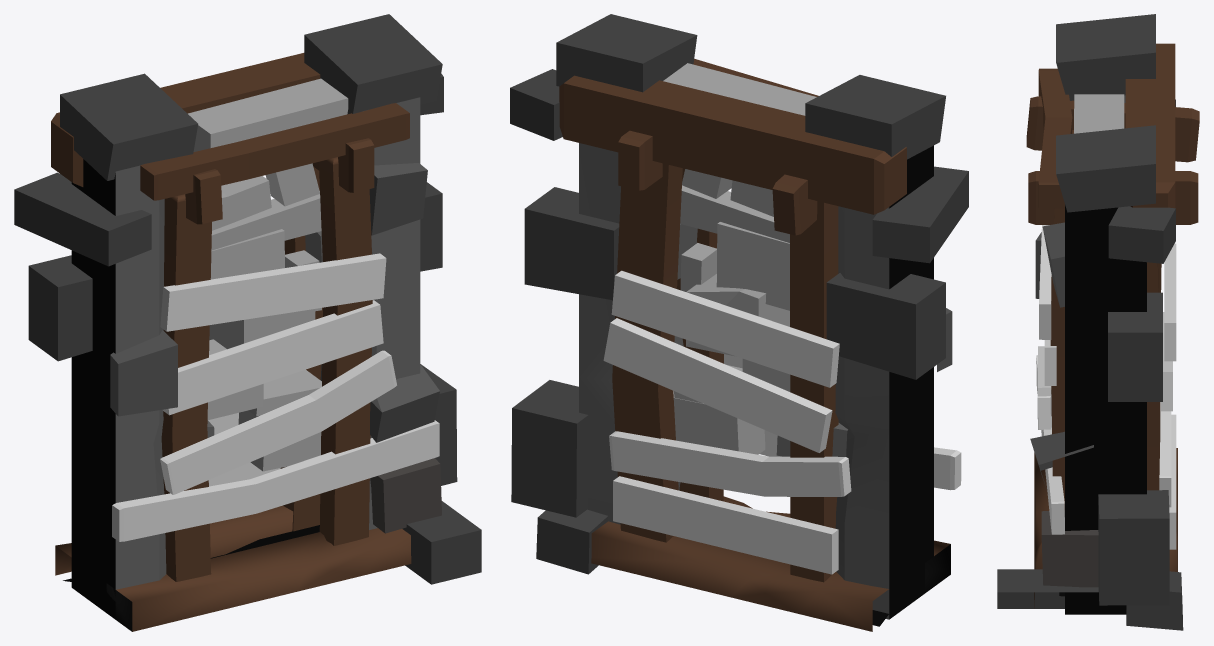
File: Wall_S_Broken01.fbx
3 renders of one model, left to right at view 1: azimuth 30°, elevation 25°; view 2: azimuth 150°, elevation 25°; view 3: azimuth 270°, elevation 25°, orthographic. The views are drawn at different scales.
Parts seen in each view (by area): view 1: Wall_S_Broken, plank04, plank01, plank03, plank02, polySurface3805, polySurface3806, polySurface3807, polySurface3811, polySurface3803, polySurface3809, polySurface3804 (+3 smaller); view 2: Wall_S_Broken, plank06, plank05, plank08, plank07, polySurface3807, stone01, polySurface3805, polySurface3806, polySurface3811, plank04, polySurface3808 (+3 smaller); view 3: Wall_S_Broken, polySurface3805, plank05, plank01, plank04, plank07, plank03, plank08, plank06, plank02.
Part boxes in pixels (<box>): Wall_S_Broken: <box>14,14,481,631</box>; plank04: <box>112,420,439,541</box>; plank01: <box>160,253,386,331</box>; plank03: <box>160,350,396,494</box>; plank02: <box>162,300,383,415</box>; polySurface3805: <box>188,78,348,151</box>; polySurface3806: <box>211,191,321,250</box>; polySurface3807: <box>210,229,284,279</box>; polySurface3811: <box>209,309,315,349</box>; polySurface3803: <box>212,176,271,230</box>; polySurface3809: <box>248,369,321,416</box>; polySurface3804: <box>265,163,319,206</box>; Wall_S_Broken: <box>510,14,968,631</box>; plank06: <box>603,318,832,452</box>; plank05: <box>611,270,839,387</box>; plank08: <box>613,476,838,574</box>; plank07: <box>609,431,851,496</box>; polySurface3807: <box>716,222,789,310</box>; stone01: <box>673,391,765,454</box>; polySurface3805: <box>663,63,816,115</box>; polySurface3806: <box>680,185,789,242</box>; polySurface3811: <box>686,274,789,356</box>; plank04: <box>760,430,961,490</box>; polySurface3808: <box>680,243,716,291</box>; Wall_S_Broken: <box>997,14,1199,630</box>; polySurface3805: <box>1074,94,1124,133</box>; plank05: <box>1164,243,1176,361</box>; plank01: <box>1039,225,1051,339</box>; plank04: <box>1036,355,1064,534</box>; plank07: <box>1159,402,1171,507</box>; plank03: <box>1037,346,1051,429</box>; plank08: <box>1169,414,1176,549</box>; plank06: <box>1161,312,1172,411</box>; plank02: <box>1044,340,1056,385</box>.
Size of the model in its own units: 5.2 by 6.03 by 2.37.
